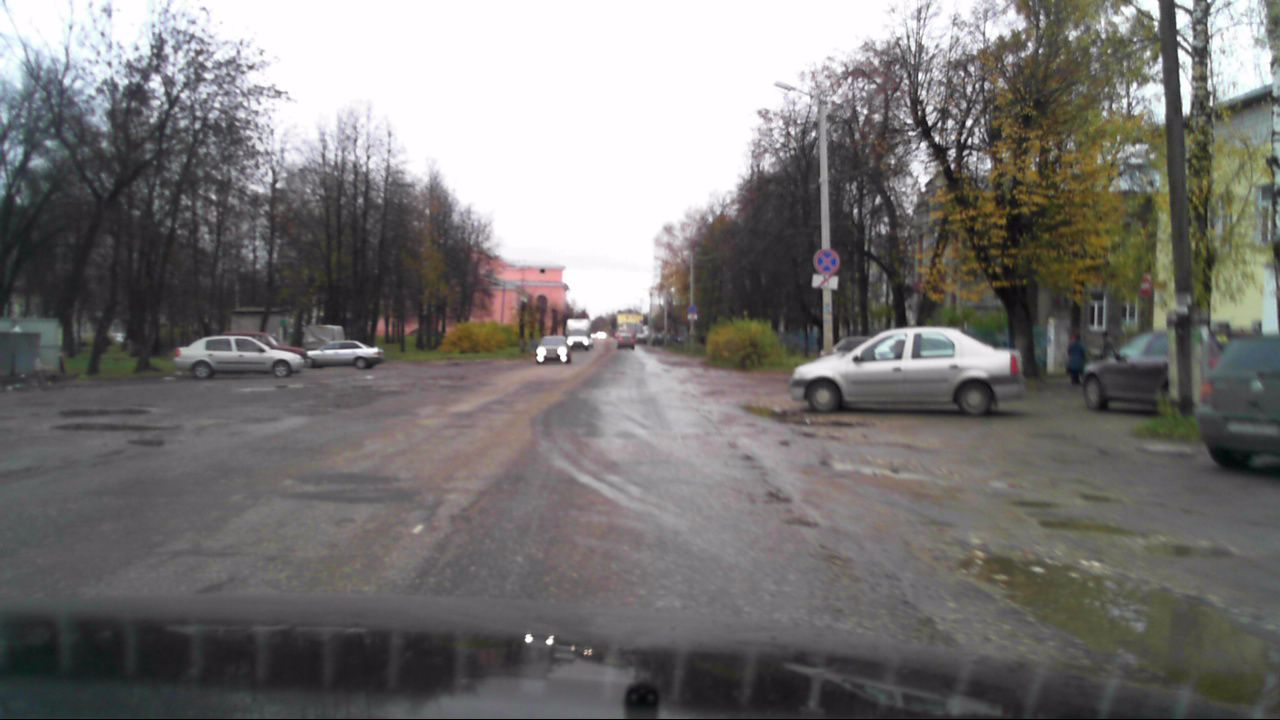No Parking: (813, 249, 840, 274)
